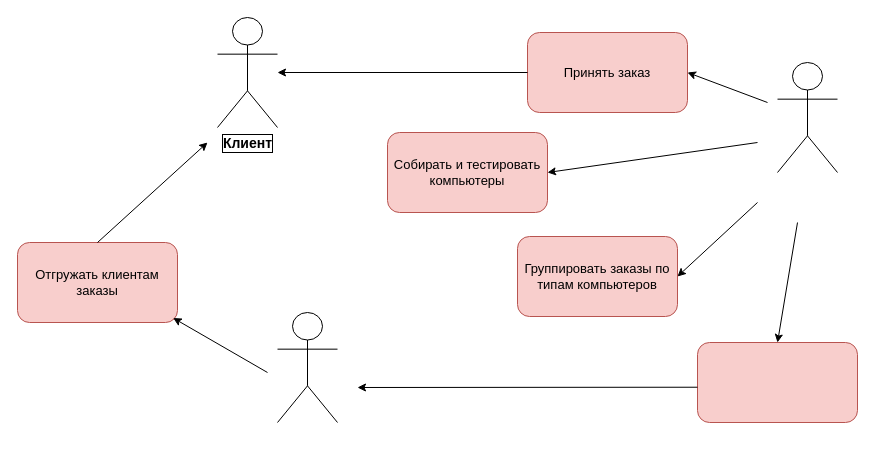
The diagram is 875 pixels wide and 466 high, and some of its shapes have lost their labels. Each missing label, with the box of its shape:
Кладовщик: (276, 312, 338, 422)
Сотрудник: (776, 62, 838, 172)
упаковывать компьютеры согласно заказам: (696, 342, 858, 422)
